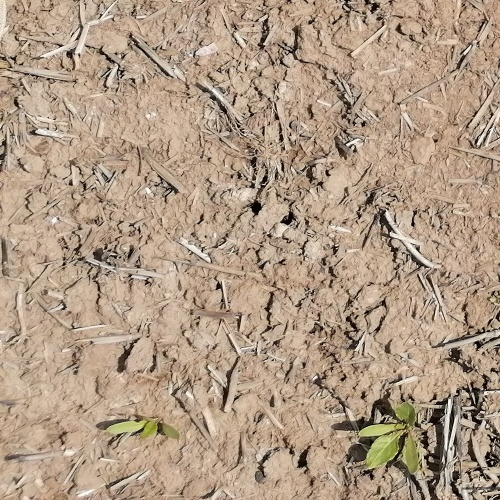beet: (358, 402, 416, 473), (105, 415, 177, 440)
